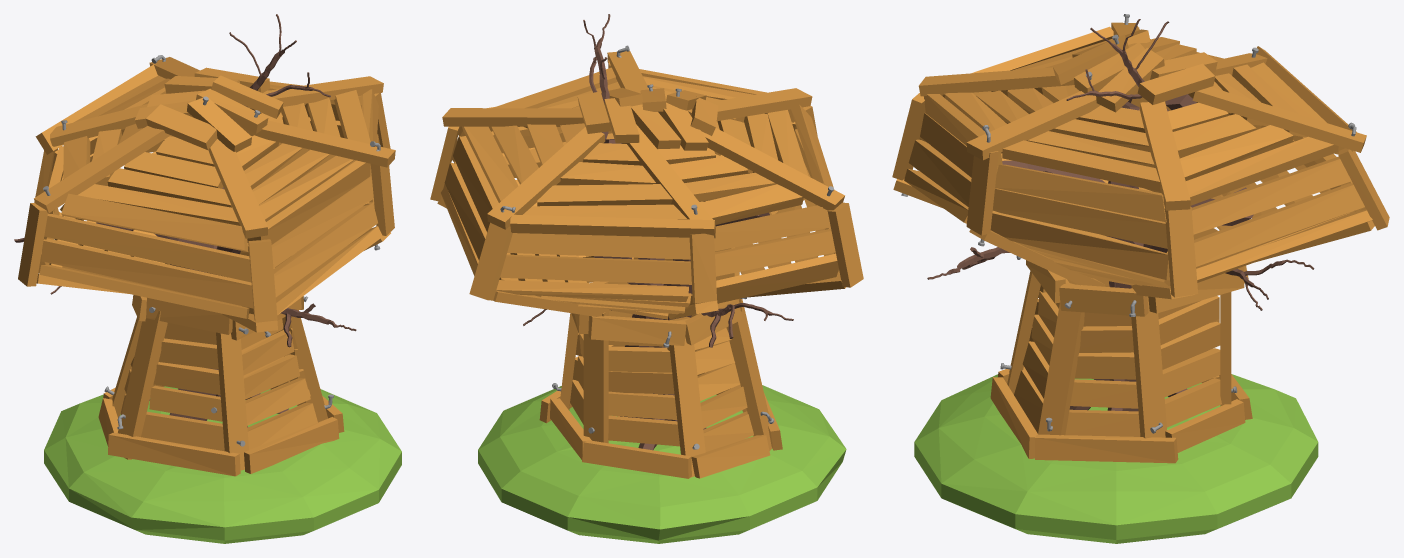
File: tree-in-a-crate.glb
3 renders of one model, left to right at view 1: azimuth 30°, elevation 25°; view 2: azimuth 150°, elevation 25°; view 3: azimuth 270°, elevation 25°, orthographic. The views are drawn at different scales.
Parts seen in each view (by area): view 1: group1449393202, group645726466, group1085034032, group1017732353, group1315261894, group1612889557, group2110873532, group1500796380, group1917476744, group963850611, group512628529, group2057889683 (+52 smaller); view 2: group1449393202, group1308615241, group1416248760, group176179479, group1917476744, group1241102530, group78024028, group294696381, group789081675, group640618779, group429395081, group784696174 (+53 smaller); view 3: group1449393202, group280895219, group1985015242, group1838392446, group1245515629, group372584716, group1373793279, group37197167, group525832451, group732398304, group247629737, group1241102530 (+56 smaller).
Boxes of the visible parts, box(x1,y1,x2,y2) form: group1449393202: box(44, 386, 401, 543); group645726466: box(41, 238, 253, 308); group1085034032: box(44, 213, 251, 282); group1017732353: box(61, 193, 248, 251); group1315261894: box(108, 432, 240, 476); group1612889557: box(273, 202, 377, 297); group2110873532: box(216, 332, 248, 470); group1500796380: box(118, 310, 167, 459); group1917476744: box(34, 126, 170, 213); group963850611: box(253, 160, 370, 244); group512628529: box(240, 120, 395, 167); group2057889683: box(39, 264, 249, 318); group1449393202: box(478, 385, 846, 543); group1308615241: box(500, 254, 691, 284); group1416248760: box(507, 233, 690, 259); group176179479: box(510, 214, 715, 238); group1917476744: box(701, 128, 844, 210); group1241102530: box(487, 127, 605, 229); group78024028: box(715, 228, 835, 276); group294696381: box(669, 316, 705, 477); group789081675: box(702, 253, 838, 303); group640618779: box(496, 280, 688, 302); group429395081: box(714, 205, 830, 251); group784696174: box(583, 312, 608, 443); group1449393202: box(914, 374, 1318, 543); group280895219: box(990, 210, 1169, 280); group1985015242: box(1194, 183, 1364, 266); group1838392446: box(995, 164, 1166, 222); group1245515629: box(1191, 156, 1351, 234); group372584716: box(992, 188, 1167, 248); group1373793279: box(1186, 136, 1338, 205); group37197167: box(1034, 434, 1178, 463); group525832451: box(1002, 140, 1160, 191); group732398304: box(1038, 282, 1084, 435); group247629737: box(1131, 288, 1167, 438); group1241102530: box(1192, 87, 1366, 152).
Size of the model in its own units: 2.14 by 2.38 by 2.12.
